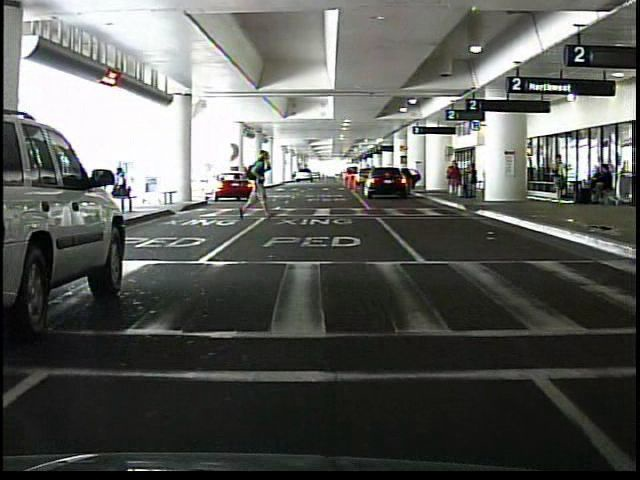person: (237, 151, 275, 222), (445, 160, 464, 199), (112, 166, 134, 198), (553, 155, 567, 203), (466, 165, 479, 199)
